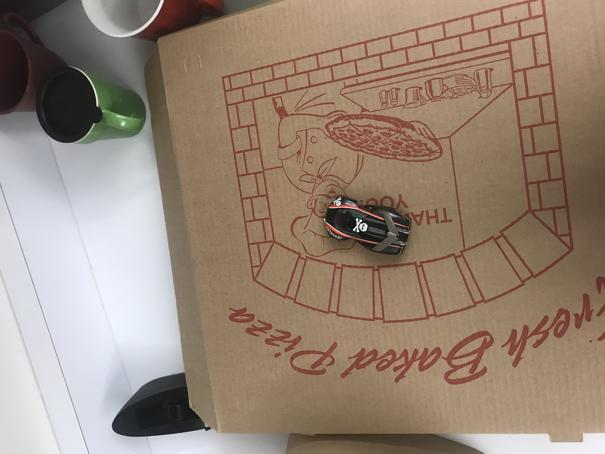Skull: (321, 195, 413, 256)
